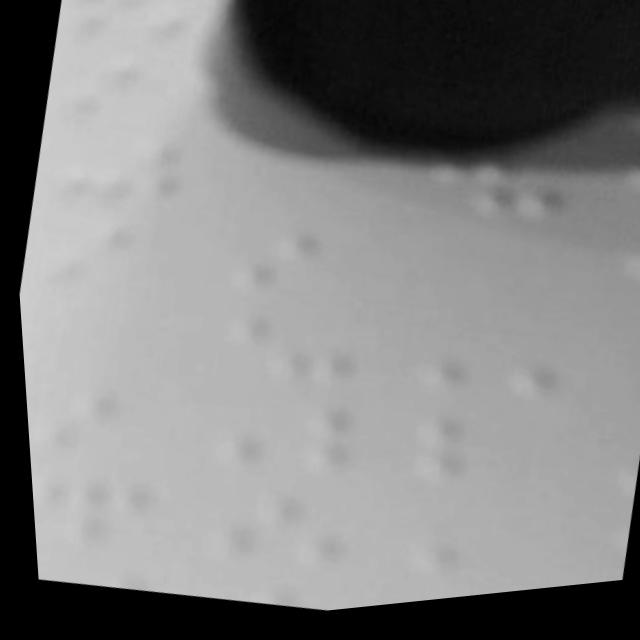braiile: (390, 398, 566, 519), (415, 140, 591, 261), (385, 491, 555, 611), (405, 311, 574, 427), (18, 195, 179, 314), (206, 294, 366, 413), (182, 470, 342, 588), (196, 381, 355, 499), (212, 205, 376, 319), (45, 27, 200, 144), (19, 358, 168, 477), (24, 452, 156, 563), (56, 0, 204, 61)
